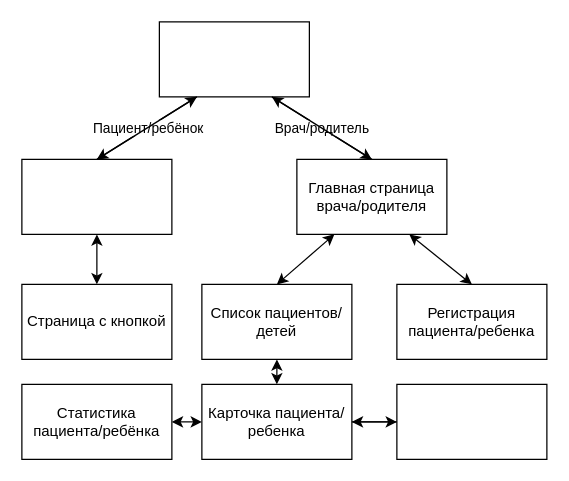
Image size: 569x481. Some labels were removed from this diagram. The box of each missing label's shape, as (x1, y1, x2, y2) in pixels:
Авторизация: (158, 21, 309, 97)
Редактирование задания: (396, 383, 547, 459)
Страница с описанием задания: (21, 158, 172, 234)
